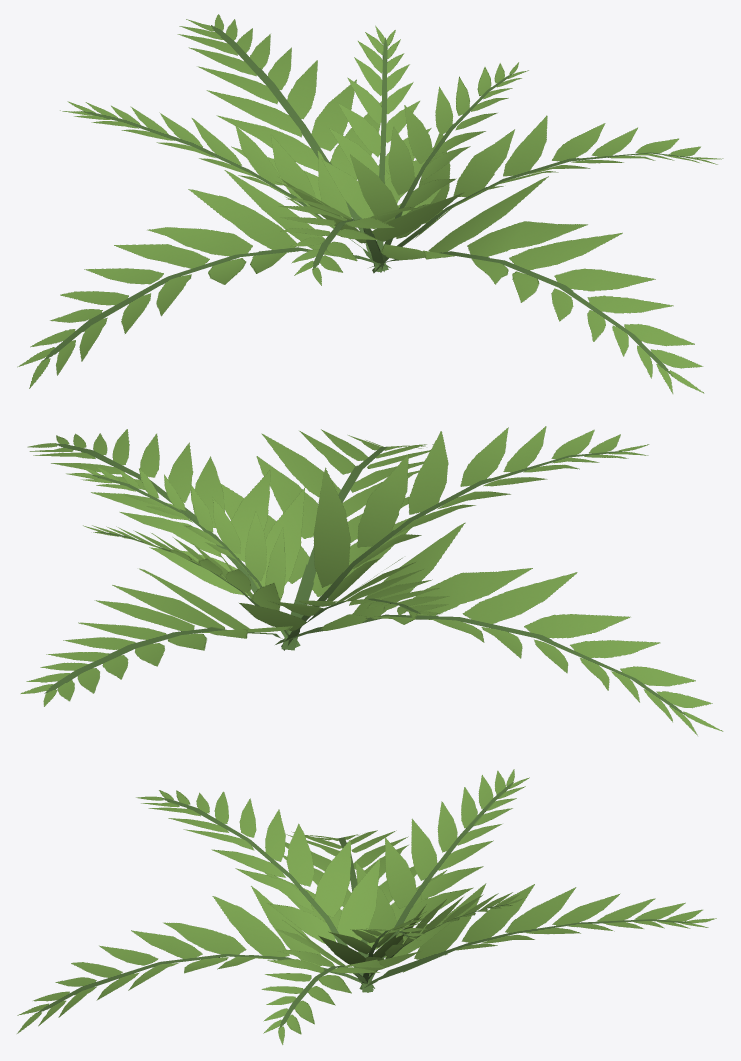
File: Fern_02.fbx
3 views of the same model, one above another, from view 1: azimuth 30°, elevation 25°; view 2: azimuth 150°, elevation 25°; view 3: azimuth 270°, elevation 25° (orthographic). The views are drawn at different scales.
Visible parts, largest first — view 1: Fern_02; view 2: Fern_02; view 3: Fern_02.
Boxes of the visible parts, x1=… form: Fern_02: x1=17, y1=14, x2=723, y2=393; Fern_02: x1=20, y1=426, x2=723, y2=735; Fern_02: x1=17, y1=769, x2=716, y2=1044.
Bounding box in the file's own units: 1049 × 242 × 1148.
1 material, 1 textured.
